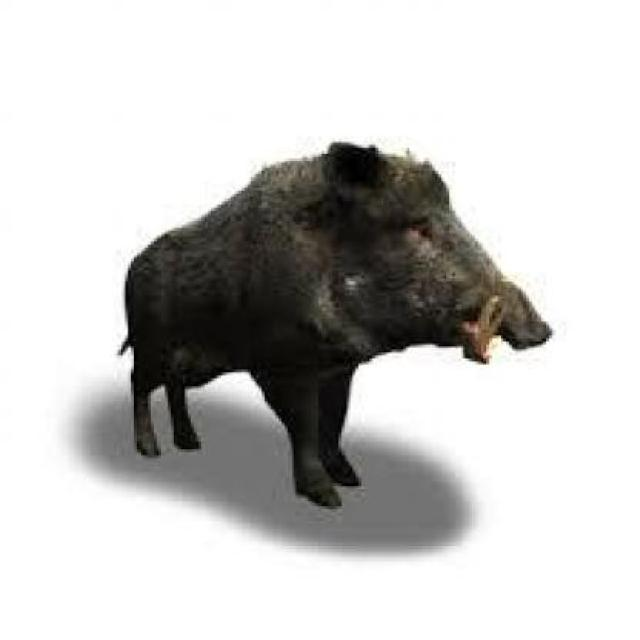wildboar: (98, 128, 559, 522)
